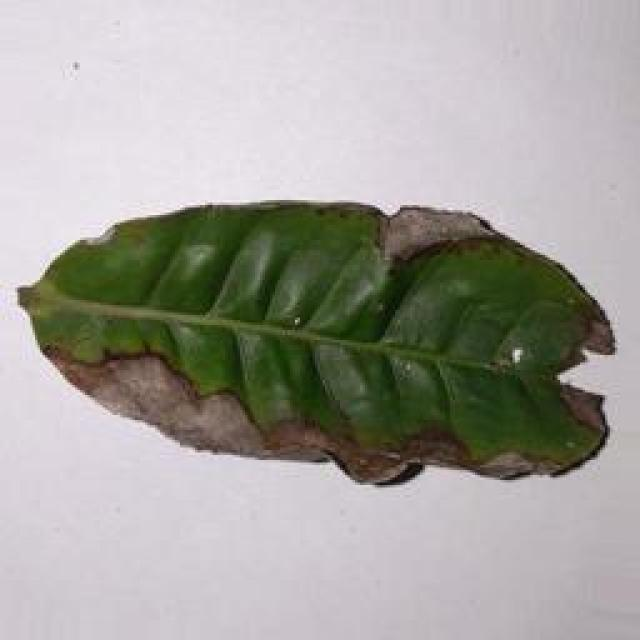Brown Blight: (10, 191, 629, 504)
